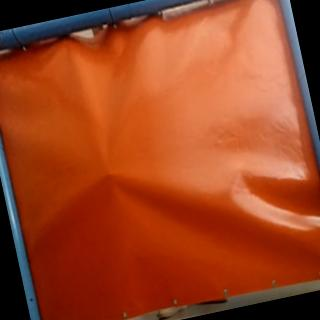Hit-hRxx: (95, 164, 118, 182)
